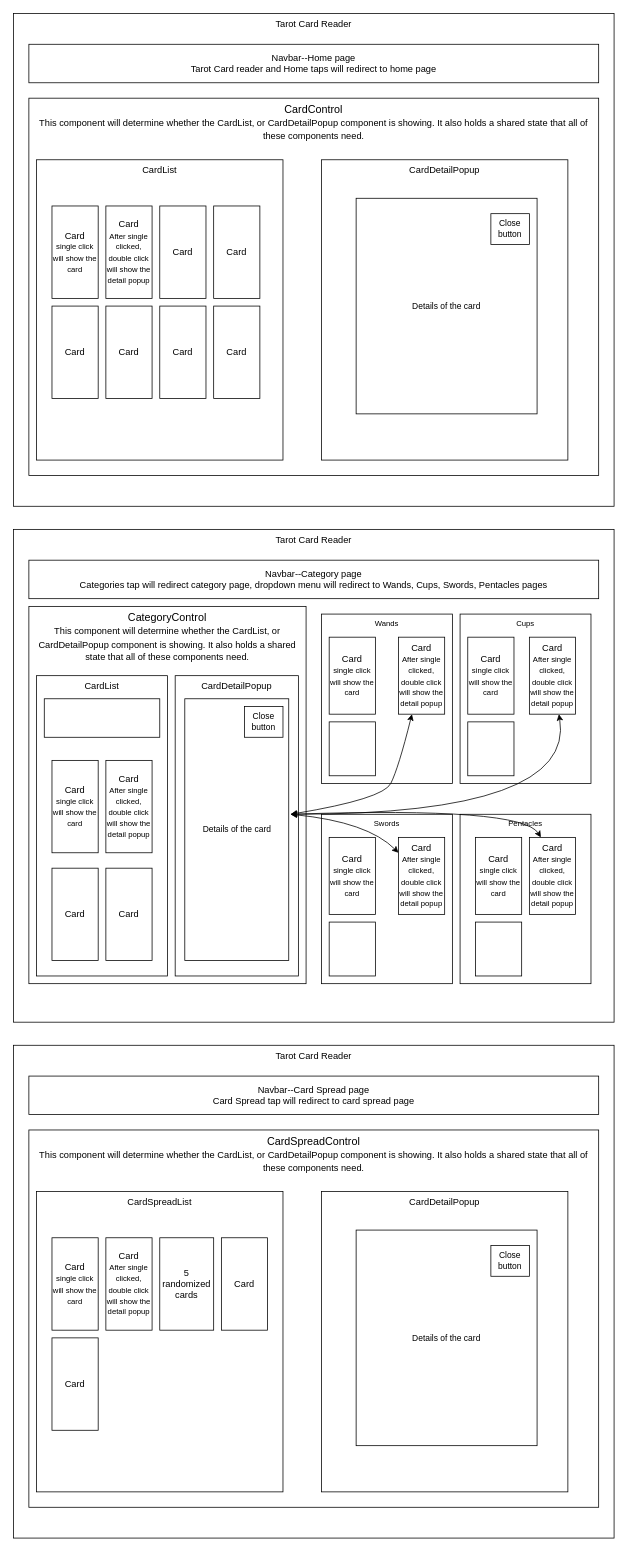
Some shapes in this 628 by 1552 pixel diagram are drawn without their labels. Here are the shapes that lost their labels. From the top down, the centre of each, then its label:
At point (102, 717): "Buttons Switch between different suits of cards".
At point (351, 748): "Wands card suits".
At point (490, 748): "Cups card suits".
At point (351, 948): "Swords card suits".
At point (498, 948): "Pentacles card suits".
